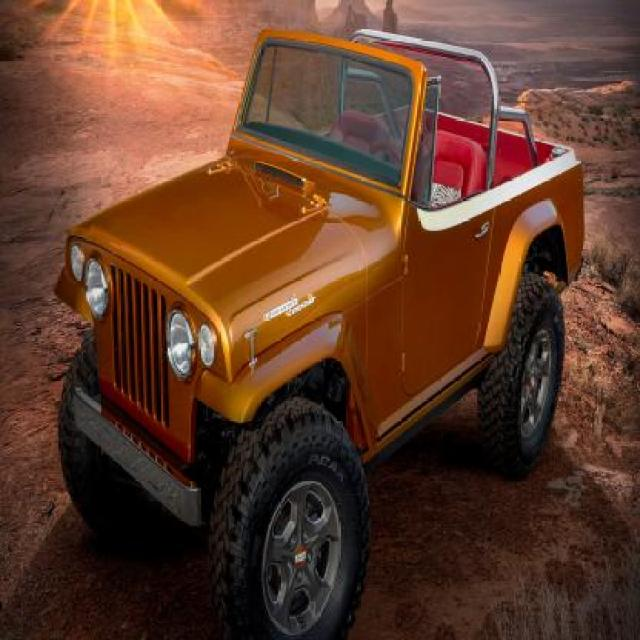Jeep: (51, 24, 586, 639)
